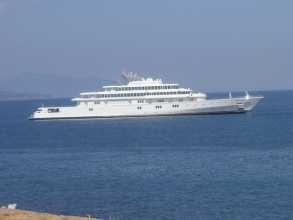yacht: (27, 72, 263, 123)
